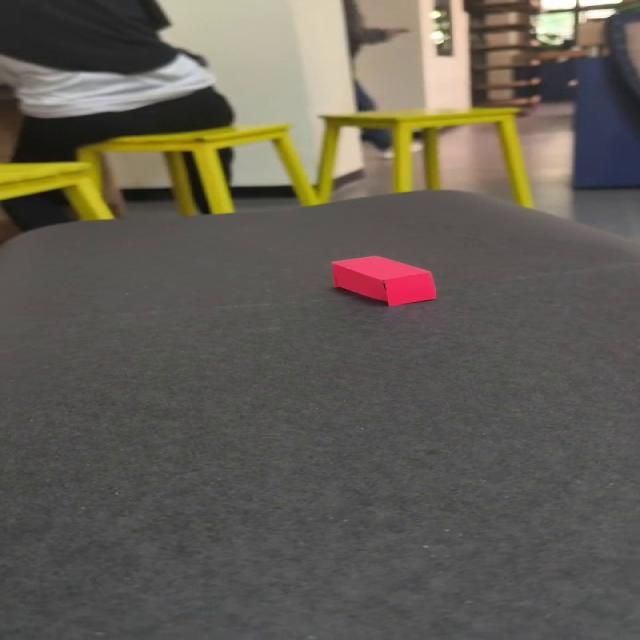red block: (330, 255, 438, 306)
